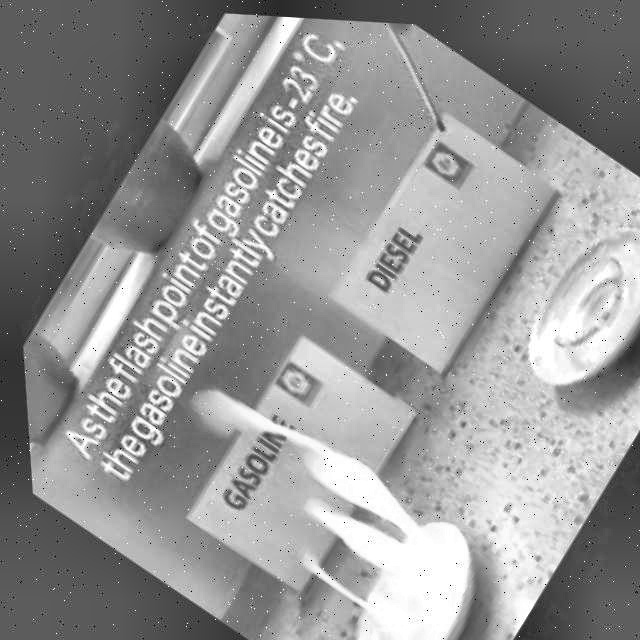Fire: (132, 339, 492, 640)
